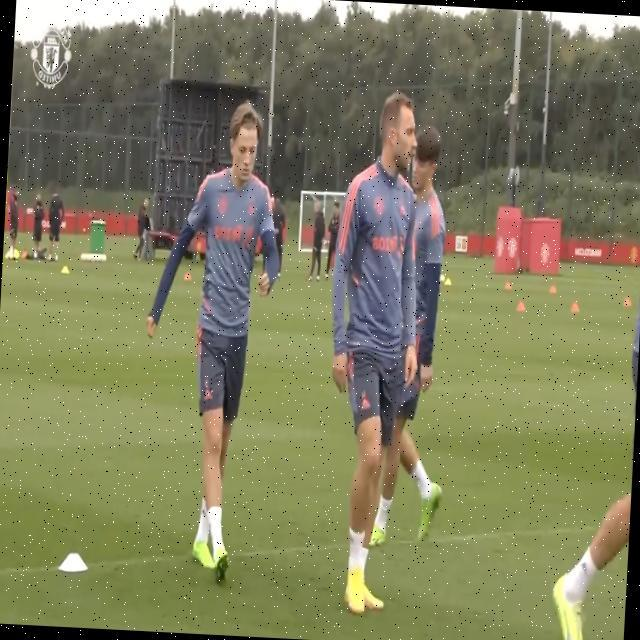Adidas: (360, 395, 372, 412), (245, 202, 257, 219), (202, 386, 213, 402)
